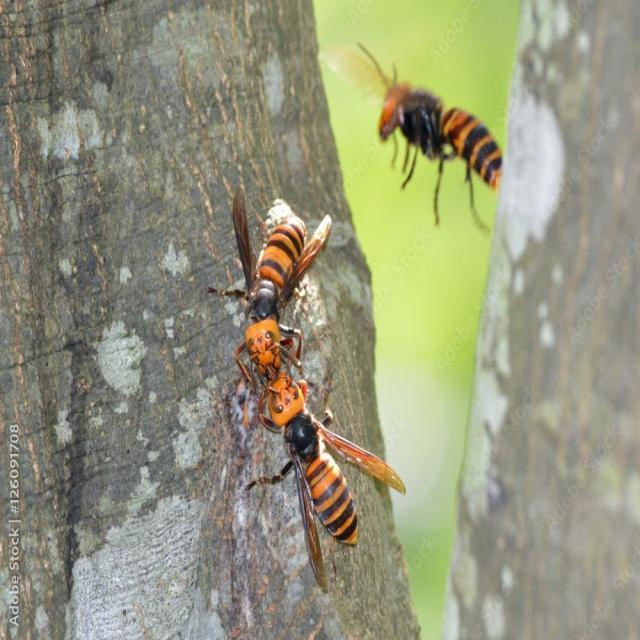Wasp: (216, 377, 411, 592), (359, 36, 508, 235), (206, 185, 339, 376)
